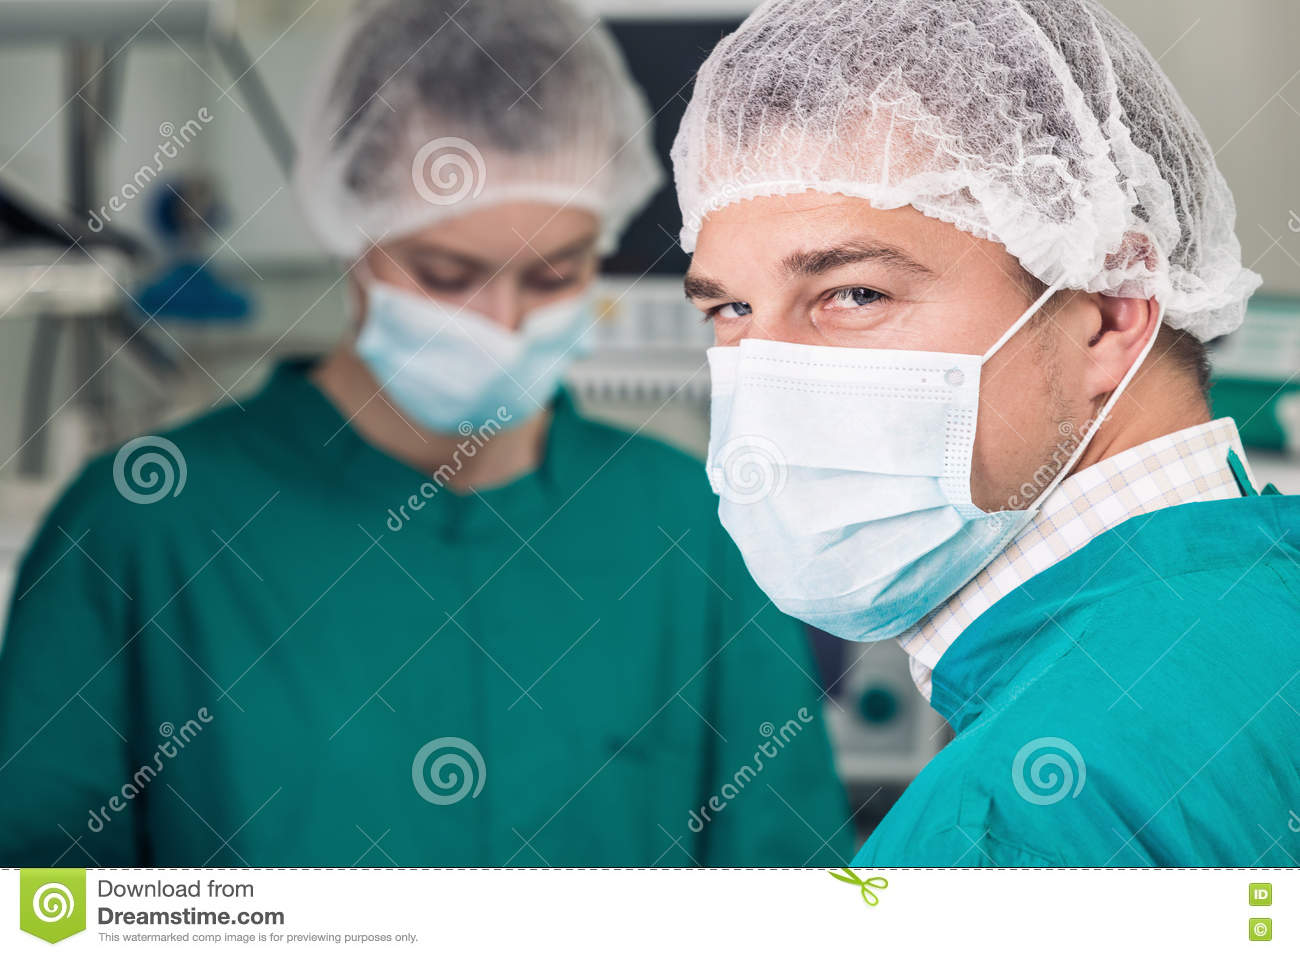mask: (663, 339, 1013, 645), (363, 294, 604, 438)
